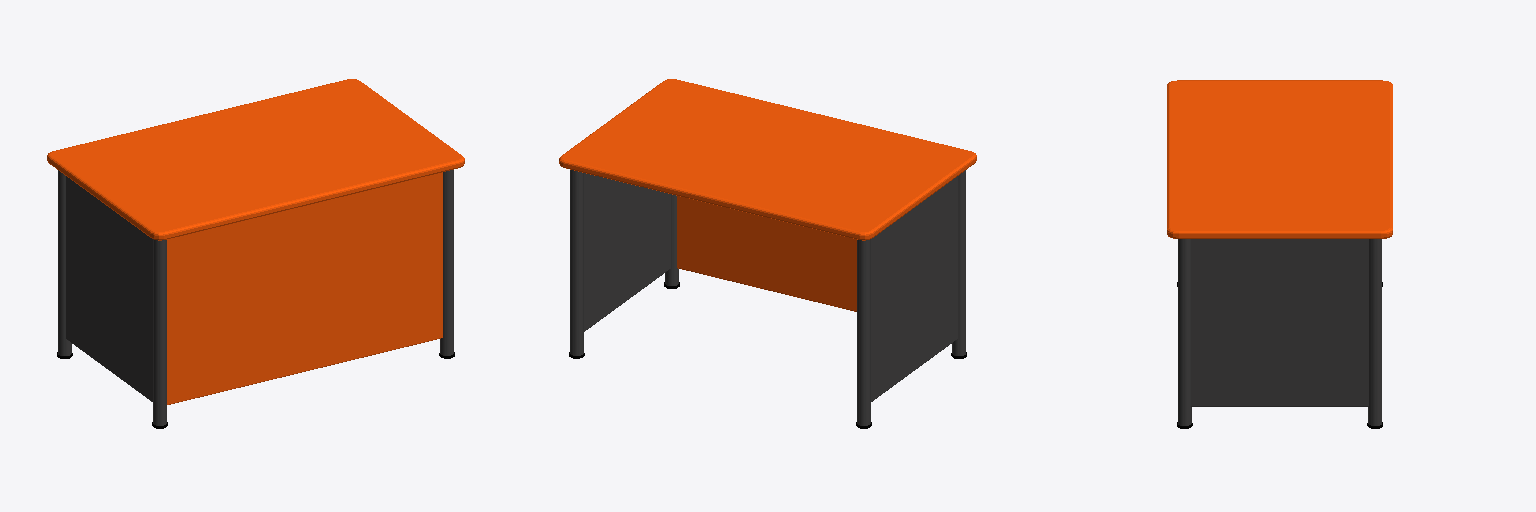
Rendered from teachers_desk.obj.
The picture shows the model from 3 angles: view 1: azimuth 30°, elevation 25°; view 2: azimuth 150°, elevation 25°; view 3: azimuth 270°, elevation 25°; orthographic projection.
Parts seen in each view (by area): view 1: Plane.006, Plane.004, Plane.007, Cylinder.002; view 2: Plane.004, Plane.007, Plane.006, Cylinder.002; view 3: Plane.004, Plane.007, Cylinder.002.
Boxes of the visible parts, x1,y1,x2,y2 form: Plane.006: [167, 172, 442, 404]; Plane.004: [47, 79, 464, 240]; Plane.007: [66, 176, 152, 401]; Cylinder.002: [58, 170, 453, 425]; Plane.004: [559, 79, 976, 240]; Plane.007: [584, 173, 957, 401]; Plane.006: [677, 196, 856, 311]; Cylinder.002: [570, 170, 965, 425]; Plane.004: [1167, 80, 1392, 238]; Plane.007: [1191, 239, 1368, 406]; Cylinder.002: [1178, 239, 1381, 425].
Bounding box in the file's own units: 4.45 × 2.73 × 2.79.